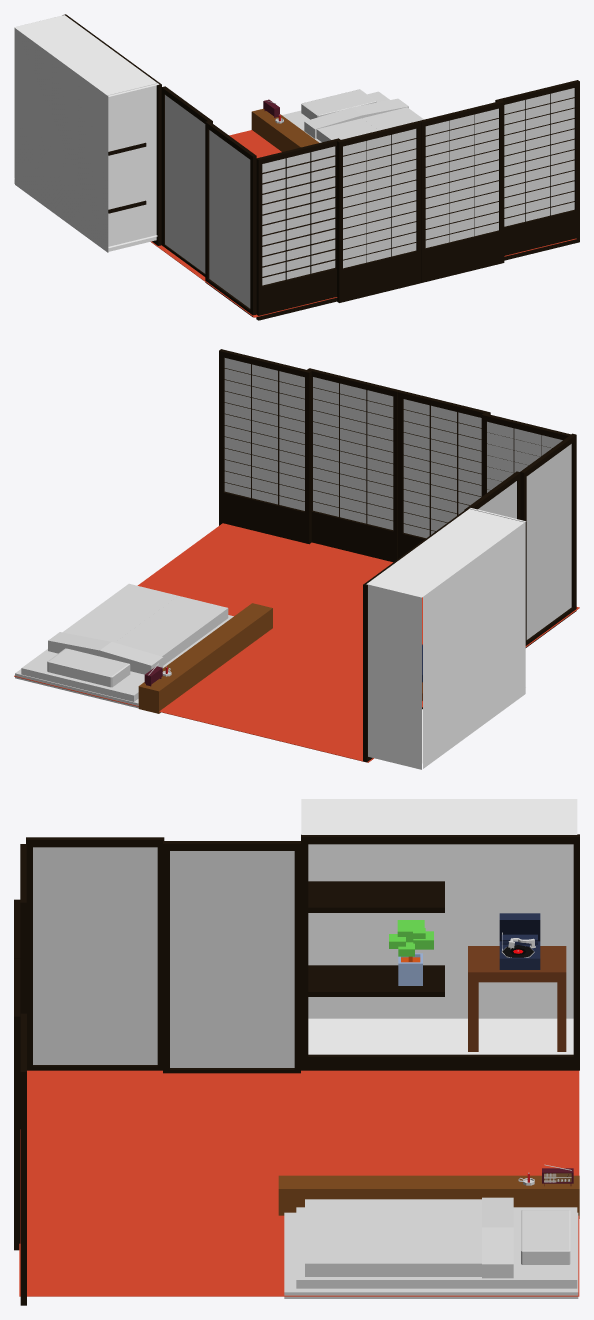
File: room_0322.fbx
3 views of the same model, one above another, from view 1: azimuth 30°, elevation 25°; view 2: azimuth 150°, elevation 25°; view 3: azimuth 270°, elevation 25° (orthographic). The views are drawn at different scales.
Visible parts, largest first — view 1: Zashiki wall1, paper door2, paper door3, paper door4, paper door1, Zashiki wall2, paper door5, paper door6, Sliding door 2, Sliding door 3, Zashiki wall4, Sliding door 1 (+13 smaller); view 2: floor, Zashiki wall1, paper door2, paper door1, Zashiki wall3, quilt, paper door3, paper door5, Zashiki wall4, Sliding door 4, Bedside table, Sliding door 3 (+13 smaller); view 3: floor, Zashiki wall1, paper door5, paper door6, quilt, Zashiki, Zashiki wall4, Zashiki wall5, Bedside table, mattress, ddSliding door 2, ddSliding door 1 (+11 smaller).
Boxes of the visible parts, box(x1,y1,x2,y2) form: Zashiki wall1: box(15, 28, 108, 252); paper door2: box(425, 108, 498, 247); paper door3: box(343, 129, 416, 268); paper door4: box(262, 146, 335, 285); paper door1: box(504, 88, 574, 226); Zashiki wall2: box(108, 83, 158, 251); paper door5: box(209, 130, 250, 308); paper door6: box(165, 95, 205, 273); Sliding door 2: box(337, 121, 421, 302); Sliding door 3: box(420, 100, 504, 282); Zashiki wall4: box(14, 15, 159, 96); Sliding door 1: box(256, 138, 340, 320); floor: box(14, 523, 579, 762); Zashiki wall1: box(423, 522, 525, 768); paper door2: box(313, 377, 393, 529); paper door1: box(224, 358, 304, 510); Zashiki wall3: box(366, 584, 421, 769); quilt: box(48, 583, 228, 674); paper door3: box(403, 399, 481, 538); paper door5: box(526, 444, 571, 639); Zashiki wall4: box(367, 508, 525, 597); Sliding door 4: box(219, 349, 311, 544); Bedside table: box(138, 603, 272, 713); Sliding door 3: box(307, 368, 399, 562); floor: box(19, 1070, 579, 1296); Zashiki wall1: box(308, 844, 573, 1018); paper door5: box(33, 847, 157, 1064); paper door6: box(170, 851, 294, 1067); quilt: box(305, 1197, 513, 1278); Zashiki: box(301, 834, 579, 1070); Zashiki wall4: box(301, 799, 577, 834); Zashiki wall5: box(308, 1018, 573, 1054); Bedside table: box(278, 1175, 579, 1218); mattress: box(296, 1207, 577, 1288); ddSliding door 2: box(163, 841, 300, 1073); ddSliding door 1: box(26, 837, 164, 1070).
Size of the model in its own units: 3998 by 1698 by 3602.
